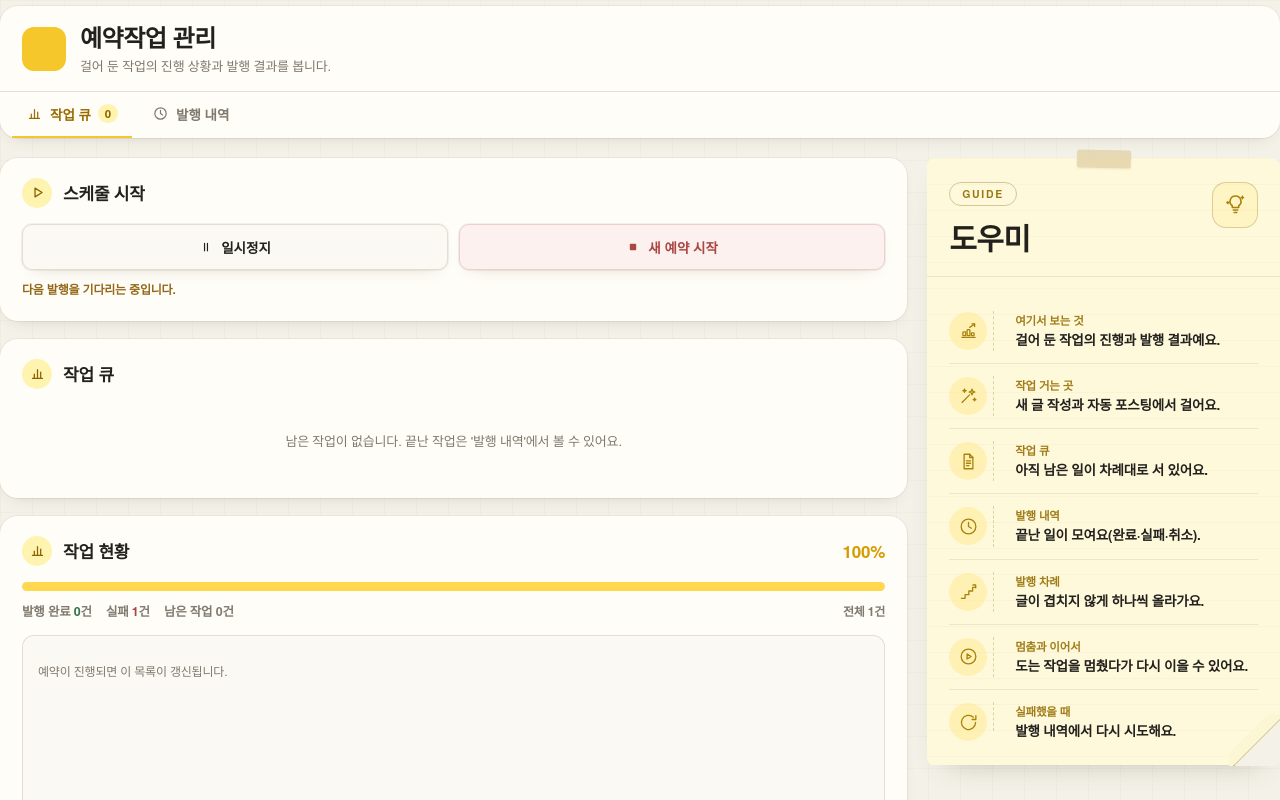
Scenario: 예약 포스팅 화면 › 작업이 실패여도 원고가 완성돼 있으면 그렇다고 말한다
The width and height of the screenshot is (1280, 800).
Step 1. Click the tab "발행 내역" → point(191, 115), box [138,92,243,138]
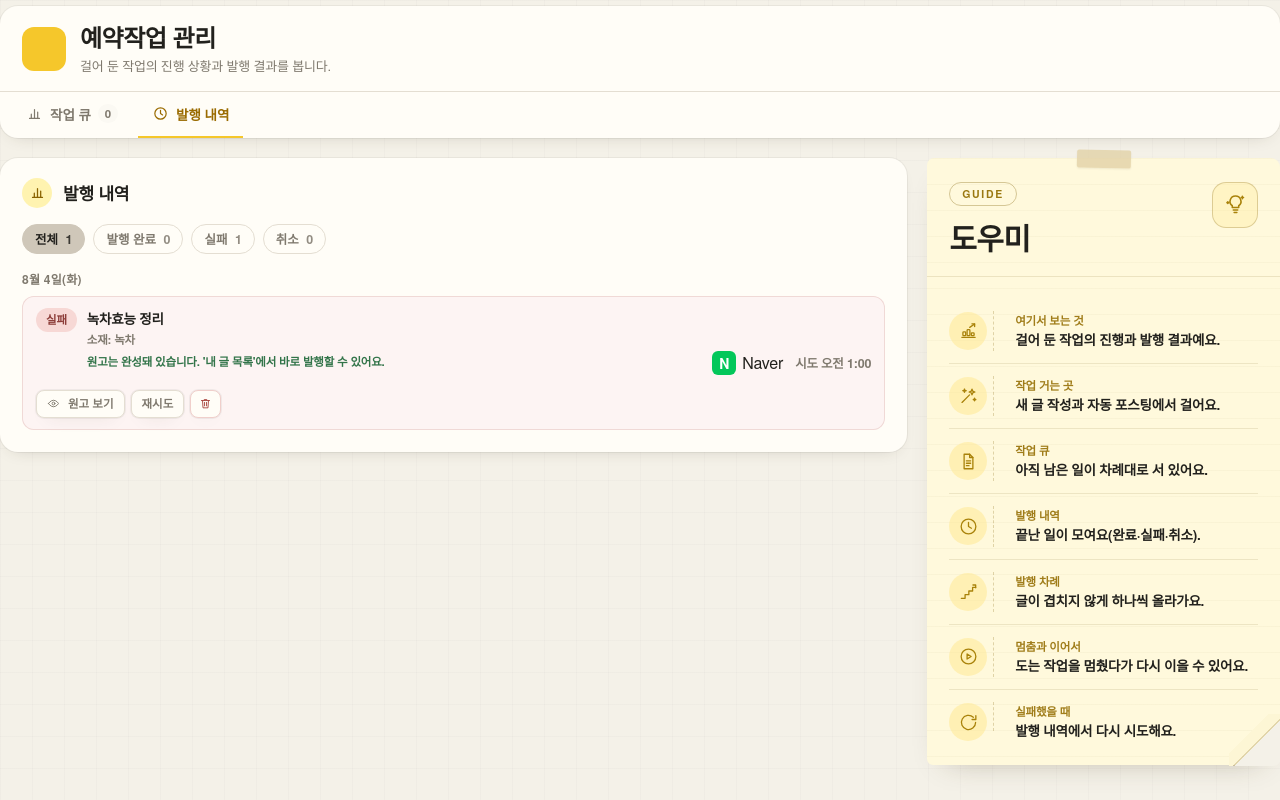
Result: the text with class "history-article-note" shows "원고는 완성돼 있습니다" at [87,353,385,370]
